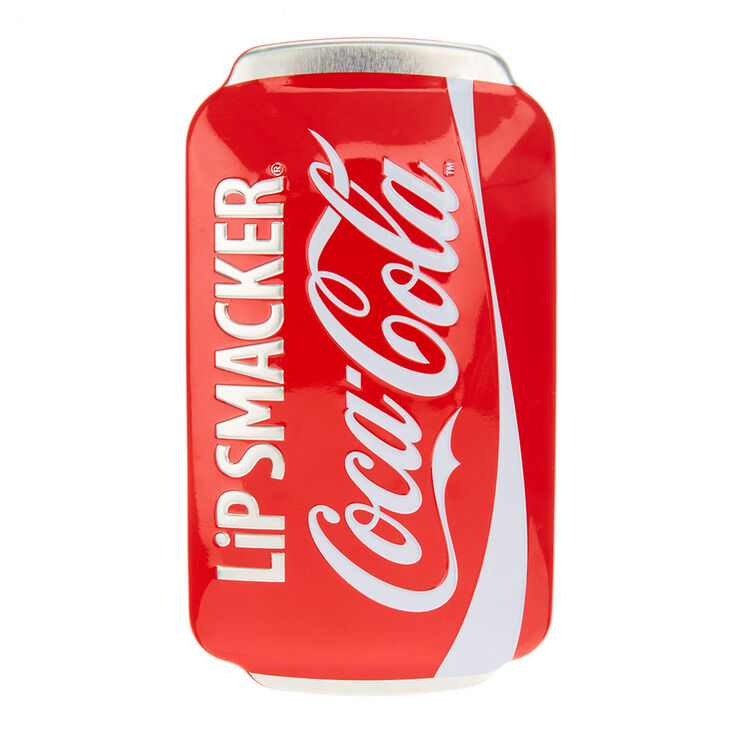can: (177, 28, 571, 695)
